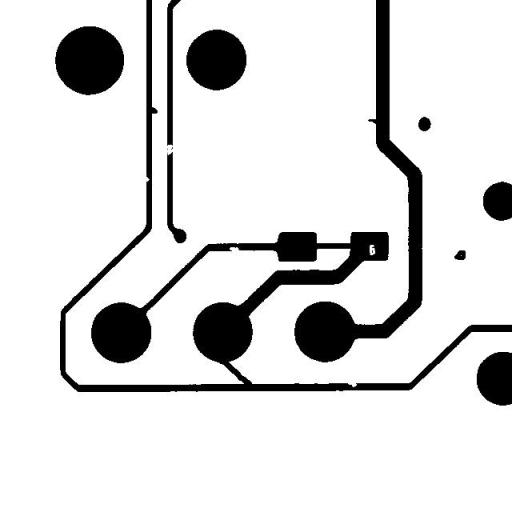copper: (446, 242, 473, 268)
mousebite: (340, 374, 364, 394), (222, 239, 246, 259), (137, 168, 157, 190)
open: (156, 137, 184, 162)
pin-hole: (362, 237, 382, 262)
short: (210, 350, 260, 394), (305, 234, 364, 258)
spur: (360, 111, 387, 131), (142, 99, 164, 121)
